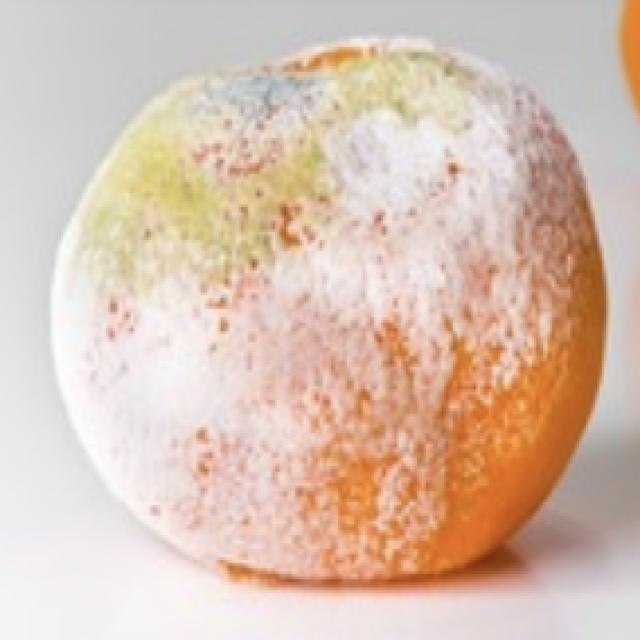sangat-busuk: (64, 43, 604, 574)
